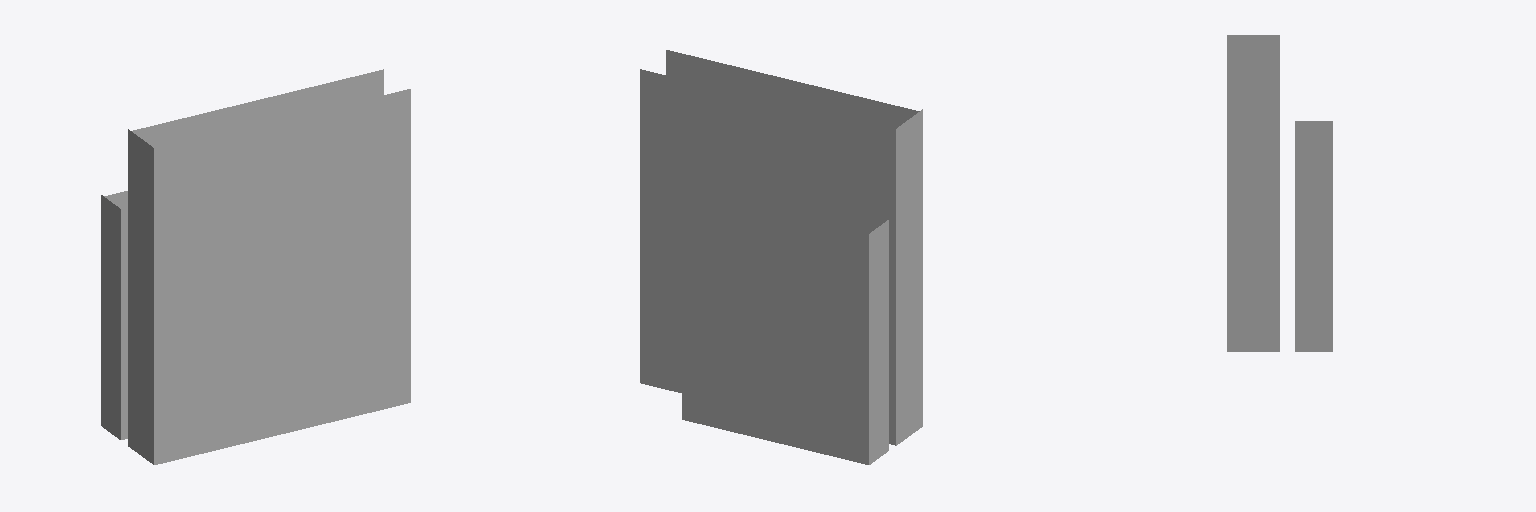
Rendered from books__10.obj.
3 renders of one model, left to right at view 1: azimuth 30°, elevation 25°; view 2: azimuth 150°, elevation 25°; view 3: azimuth 270°, elevation 25°, orthographic.
Visible parts, largest first — view 1: grp10; view 2: grp10; view 3: grp10.
Part boxes in pixels (bbox=[...]): grp10: bbox=[101, 69, 410, 464]; grp10: bbox=[640, 50, 922, 464]; grp10: bbox=[1227, 35, 1332, 351].
Bounding box in the file's own units: 155 × 184 × 55.89.